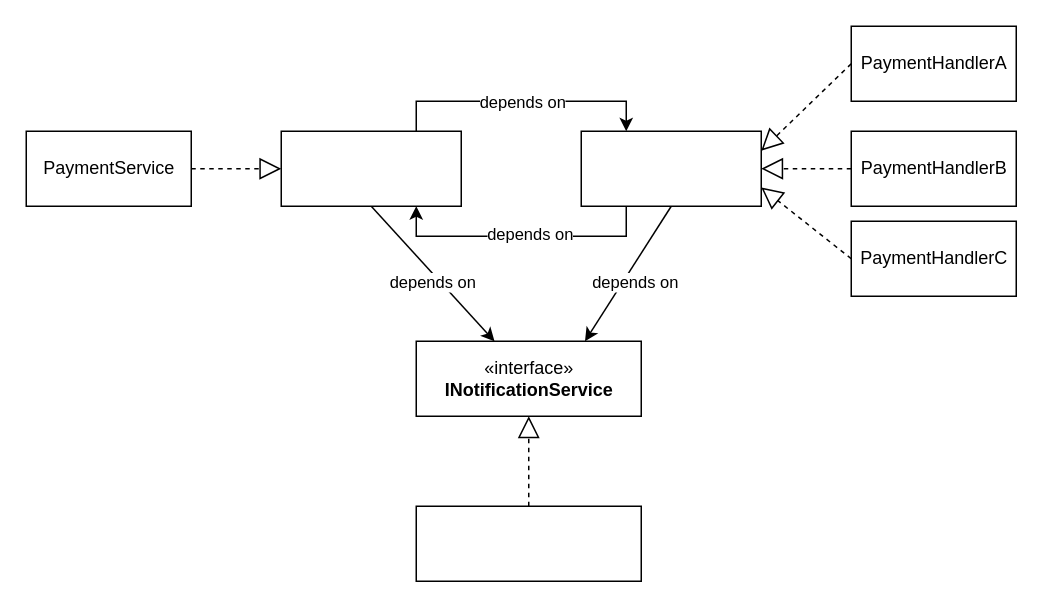
This 1043x608 diagram has some shape labels left out. Here are the shapes that lost their labels. From the top down, the centre of each, then its label:
At pixel 370 168: "«interface» IPaymentService".
At pixel 670 168: "«interface» IPaymentHandler".
At pixel 528 543: "NotificationService".
